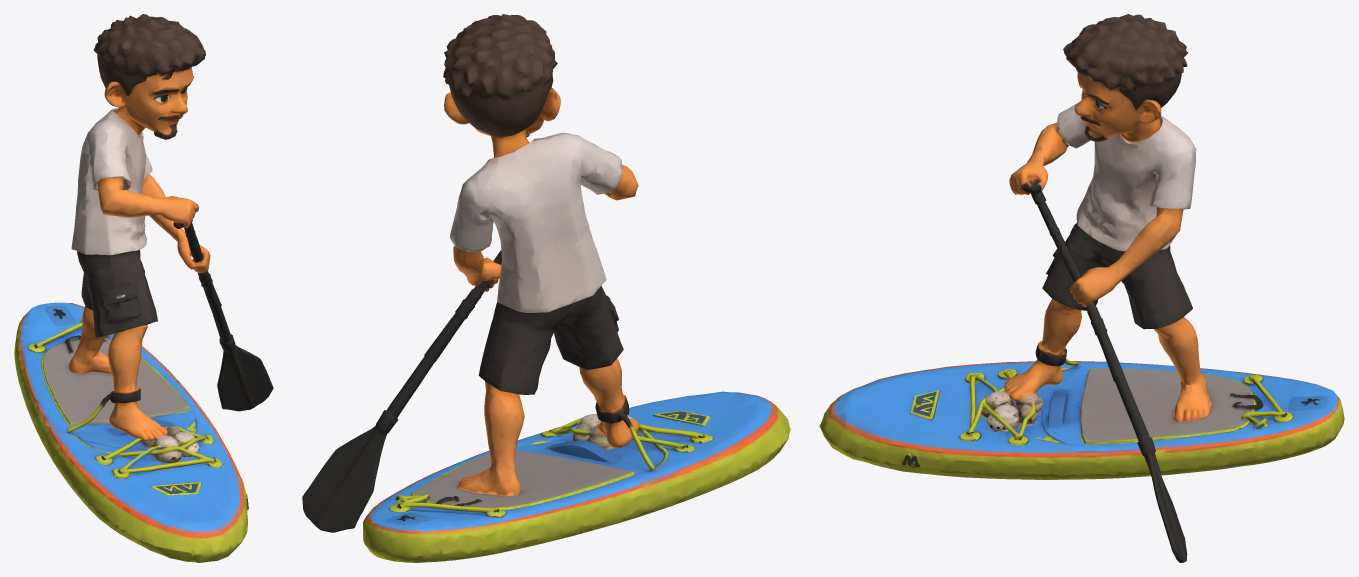
Rendered from paddle.glb.
3 views of the same model, side by side, from view 1: azimuth 30°, elevation 25°; view 2: azimuth 150°, elevation 25°; view 3: azimuth 270°, elevation 25° (orthographic). The views are drawn at different scales.
Parts seen in each view (by area): view 1: paddle; view 2: paddle; view 3: paddle.
Boxes of the visible parts, x1=… form: paddle: x1=14, y1=14, x2=273, y2=562; paddle: x1=302, y1=14, x2=790, y2=562; paddle: x1=819, y1=14, x2=1344, y2=562.
Bounding box in the file's own units: 0.7671 × 1.15 × 1.15.
1 material, 1 textured.
